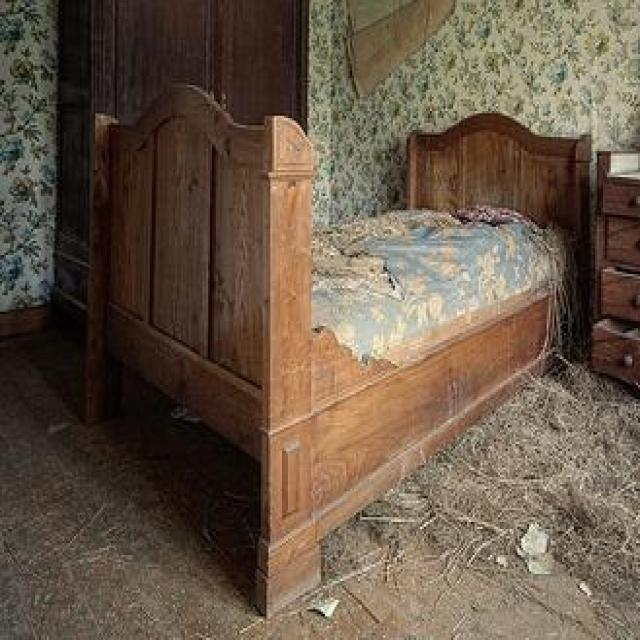bed: (79, 82, 596, 625)
